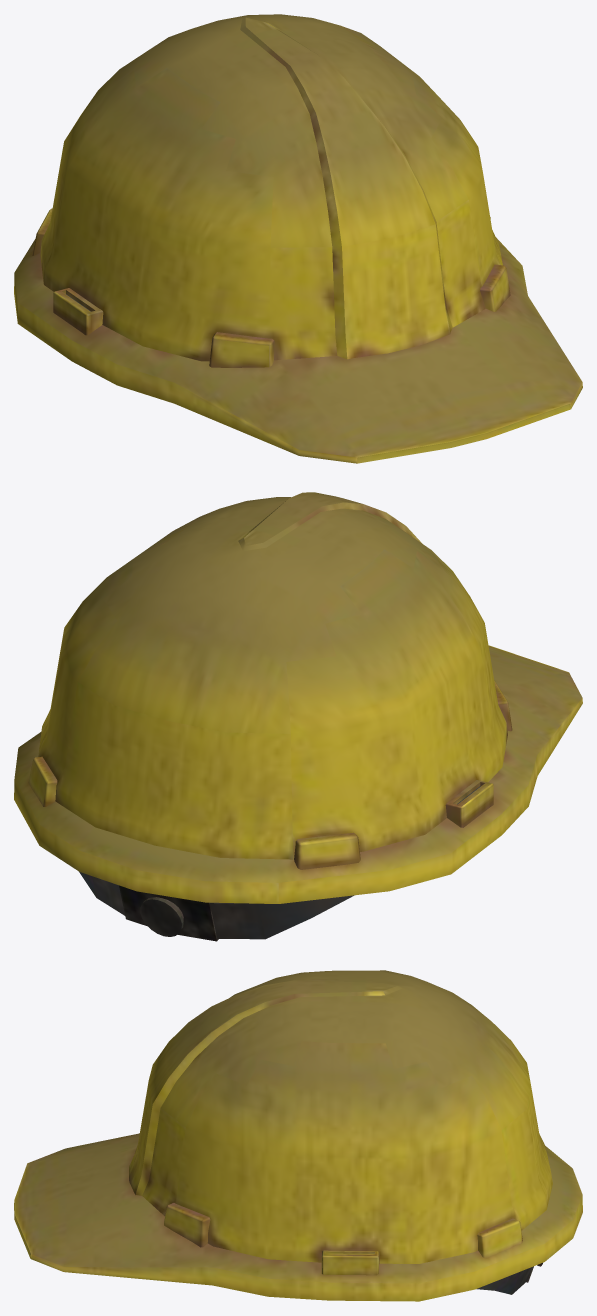
Rendered from hat_hard_hat.glb.
The picture shows the model from 3 angles, top to bottom: view 1: azimuth 30°, elevation 25°; view 2: azimuth 150°, elevation 25°; view 3: azimuth 270°, elevation 25°; orthographic projection. The views are drawn at different scales.
Visible parts, largest first — view 1: defaultMaterial; view 2: defaultMaterial; view 3: defaultMaterial.
Boxes of the visible parts, bbox=[...] form: defaultMaterial: bbox=[14, 14, 582, 463]; defaultMaterial: bbox=[14, 492, 582, 941]; defaultMaterial: bbox=[14, 970, 582, 1301].
Size of the model in its own units: 2.13 by 1.55 by 2.85.
Materials: 1 (1 with a texture image).
